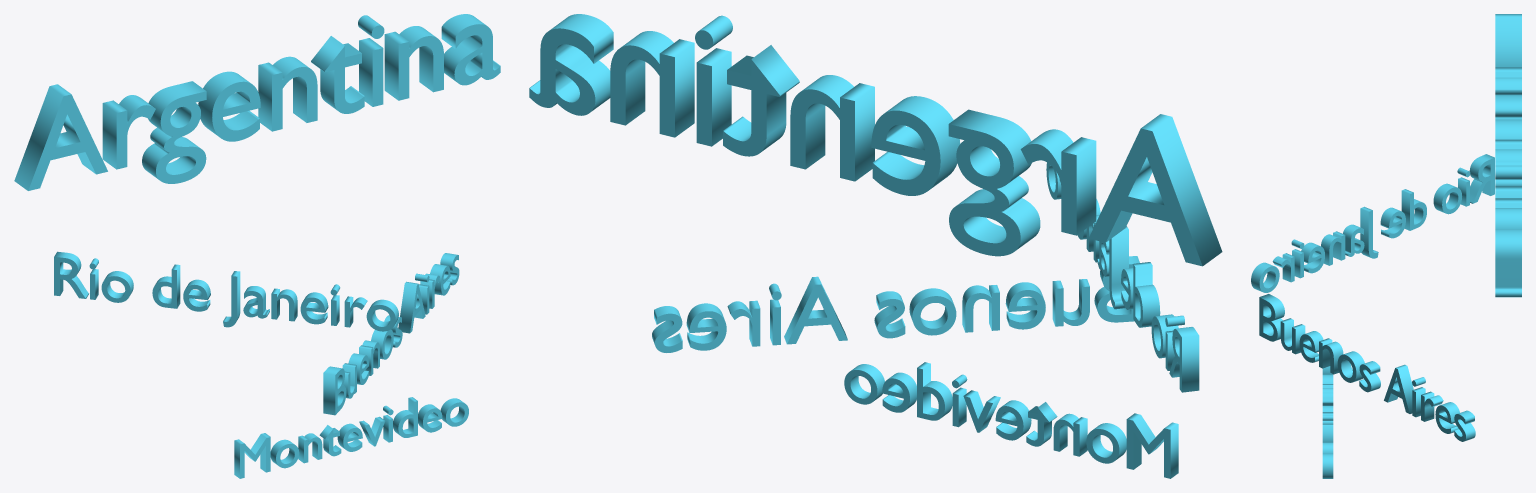
The model's file is console_test_003.fbx.
The picture shows the model from 3 angles, left to right: view 1: azimuth 30°, elevation 25°; view 2: azimuth 150°, elevation 25°; view 3: azimuth 270°, elevation 25°; orthographic projection. The views are drawn at different scales.
Parts seen in each view (by area): view 1: Txt_Test_01.007, Failure.014, Failure.015, Success.038; view 2: Txt_Test_01.007, Success.038, Failure.015, Failure.014; view 3: Txt_Test_01.007, Failure.014, Success.038, Failure.015.
Part boxes in pixels (x1=…): Txt_Test_01.007: x1=14, y1=14, x2=500, y2=190; Failure.014: x1=54, y1=251, x2=398, y2=331; Failure.015: x1=234, y1=397, x2=468, y2=478; Success.038: x1=323, y1=253, x2=459, y2=415; Txt_Test_01.007: x1=529, y1=14, x2=1222, y2=266; Success.038: x1=652, y1=256, x2=1139, y2=352; Failure.015: x1=844, y1=362, x2=1178, y2=478; Failure.014: x1=1046, y1=162, x2=1199, y2=392; Txt_Test_01.007: x1=1495, y1=14, x2=1521, y2=297; Failure.014: x1=1251, y1=154, x2=1494, y2=292; Success.038: x1=1259, y1=294, x2=1475, y2=441; Failure.015: x1=1322, y1=366, x2=1333, y2=478.
Bounding box in the file's own units: 1.77 × 1.21 × 0.9212.
